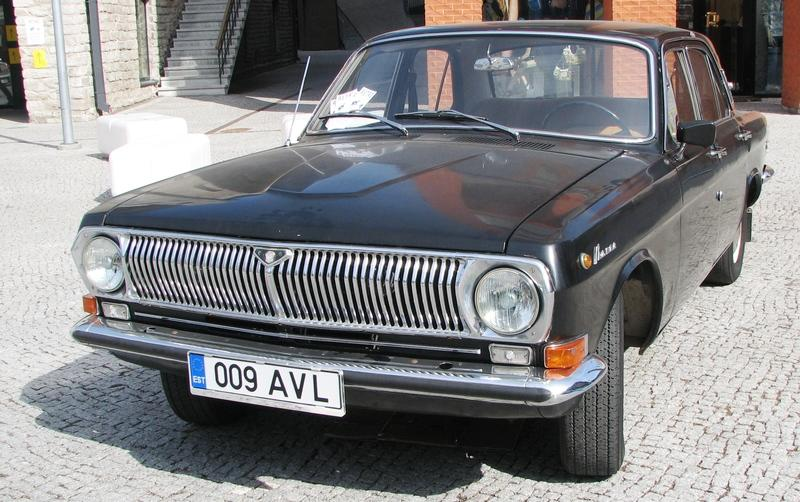car: (67, 16, 774, 488)
plate: (183, 348, 348, 419)
